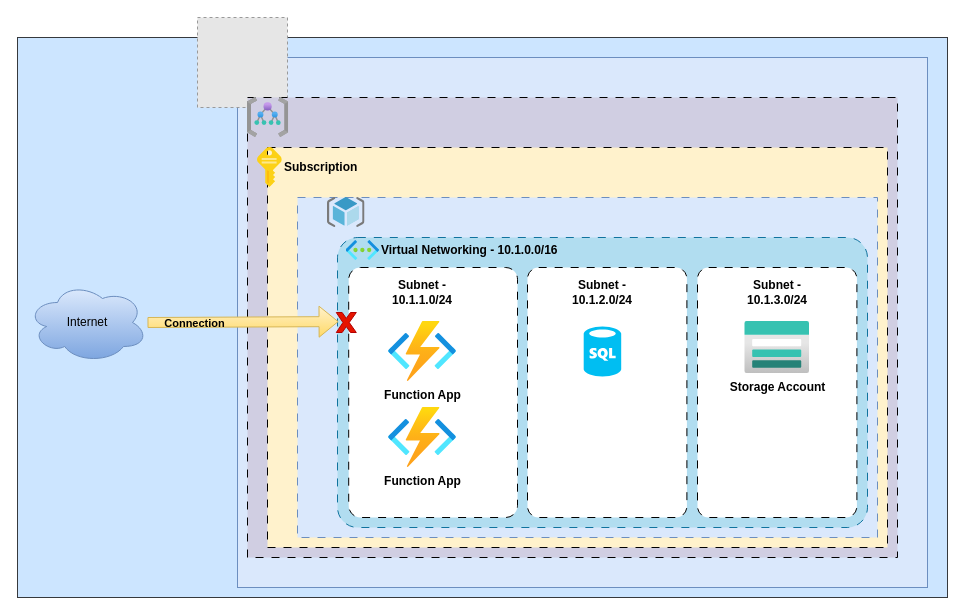
This 965x615 diagram has some shape labels left out. Grey dashed boxes stand in for pictures. Here are the shapes that lost their labels. From the top down, the box of each, then its label:
(247, 97, 288, 137): Magement Group
(327, 197, 364, 227): Resource Group - azure-for-devs
(583, 326, 621, 376): SQL Server
